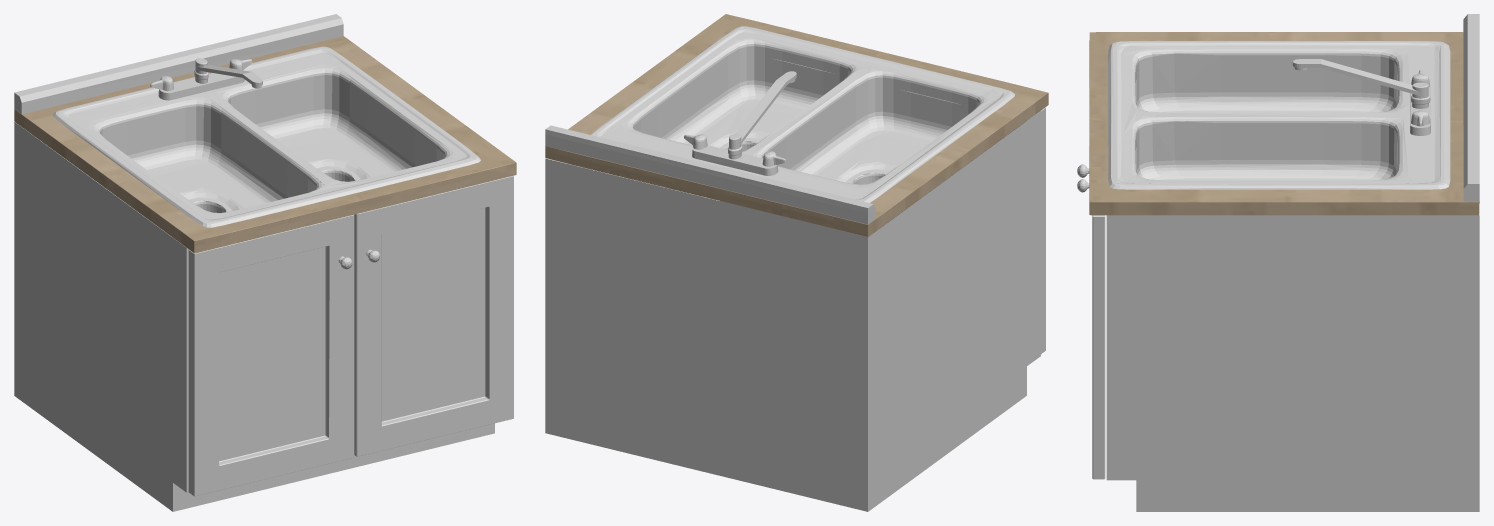
The model's file is sh-bsby-kitchen-sink.glb.
3 views of the same model, side by side, from view 1: azimuth 30°, elevation 25°; view 2: azimuth 150°, elevation 25°; view 3: azimuth 270°, elevation 25° (orthographic). The views are drawn at different scales.
Visible parts, largest first — view 1: Door-and-Drawers-Right.002_Cube.038, Double_sink, Worktop-Right.002_Cube.037, Plane.001_Plane.017, Kitchen_faucet; view 2: Door-and-Drawers-Right.002_Cube.038, Double_sink, Worktop-Right.002_Cube.037, Plane.001_Plane.017, Kitchen_faucet; view 3: Door-and-Drawers-Right.002_Cube.038, Double_sink, Worktop-Right.002_Cube.037, Plane.001_Plane.017, Kitchen_faucet.
Part boxes in pixels (box(x1,y1,x2,y2)): Door-and-Drawers-Right.002_Cube.038: box(14, 122, 513, 511); Double_sink: box(52, 46, 480, 227); Worktop-Right.002_Cube.037: box(14, 36, 516, 253); Plane.001_Plane.017: box(14, 14, 343, 114); Kitchen_faucet: box(150, 58, 262, 100); Door-and-Drawers-Right.002_Cube.038: box(545, 59, 1045, 511); Double_sink: box(591, 26, 1014, 202); Worktop-Right.002_Cube.037: box(545, 14, 1048, 236); Plane.001_Plane.017: box(545, 125, 875, 224); Kitchen_faucet: box(684, 71, 796, 175); Door-and-Drawers-Right.002_Cube.038: box(1092, 80, 1479, 511); Double_sink: box(1108, 41, 1450, 189); Worktop-Right.002_Cube.037: box(1089, 32, 1479, 215); Plane.001_Plane.017: box(1463, 14, 1479, 201); Kitchen_faucet: box(1292, 59, 1430, 135).
Size of the model in its own units: 1 by 1 by 1.
6 materials, 1 textured.
